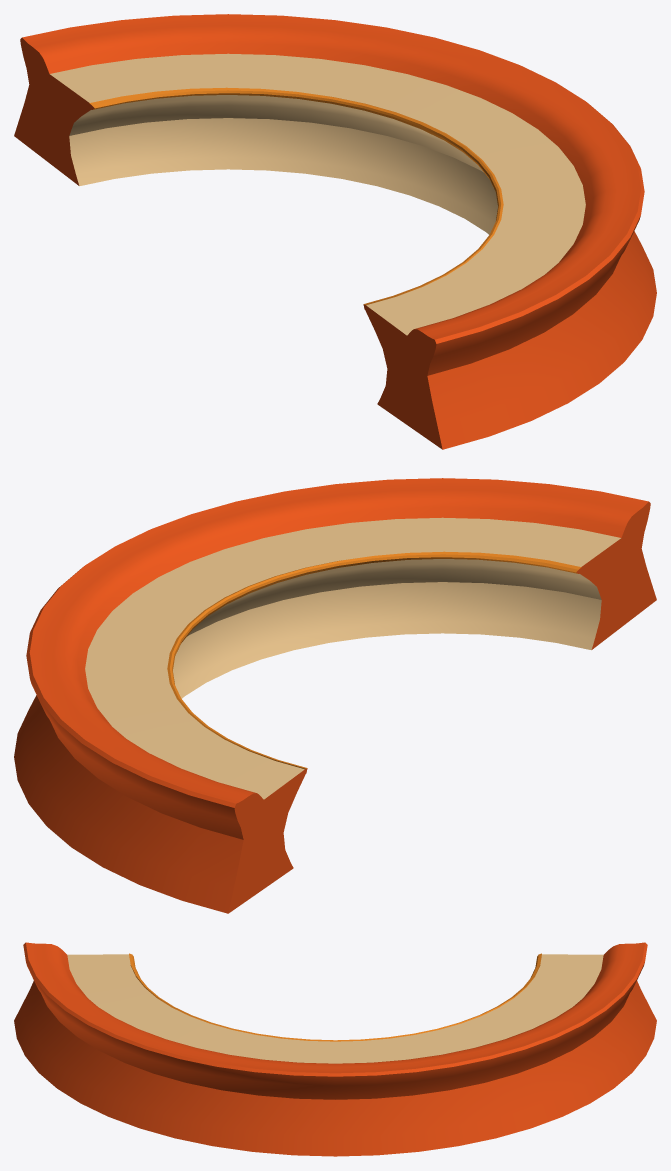
The model's file is futuristicdesk.fbx.
The picture shows the model from 3 angles, top to bottom: view 1: azimuth 30°, elevation 25°; view 2: azimuth 150°, elevation 25°; view 3: azimuth 270°, elevation 25°; orthographic projection. The views are drawn at different scales.
Visible parts, largest first — view 1: Plane; view 2: Plane; view 3: Plane.
Part boxes in pixels (x1,y1,x2,y2): Plane: (14,14,656,449); Plane: (14,478,656,913); Plane: (14,942,656,1156).
Bounding box in the file's own units: 524 × 143 × 1045.
